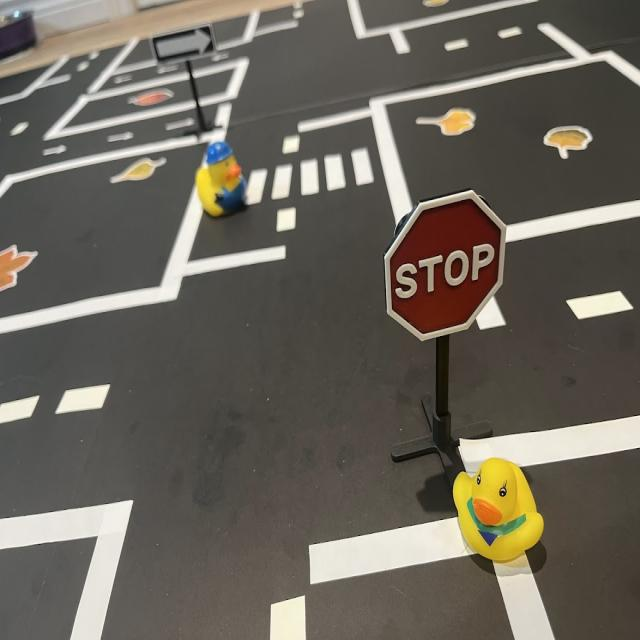duck_regular: (449, 453, 548, 568)
duck_specialty: (190, 138, 254, 217)
road_crosswalk: (240, 143, 382, 211)
road_oneway: (41, 139, 77, 159), (162, 119, 201, 135), (107, 130, 141, 148)
sign_oneway_right: (156, 27, 218, 64)
sign_stop: (386, 189, 509, 334)
